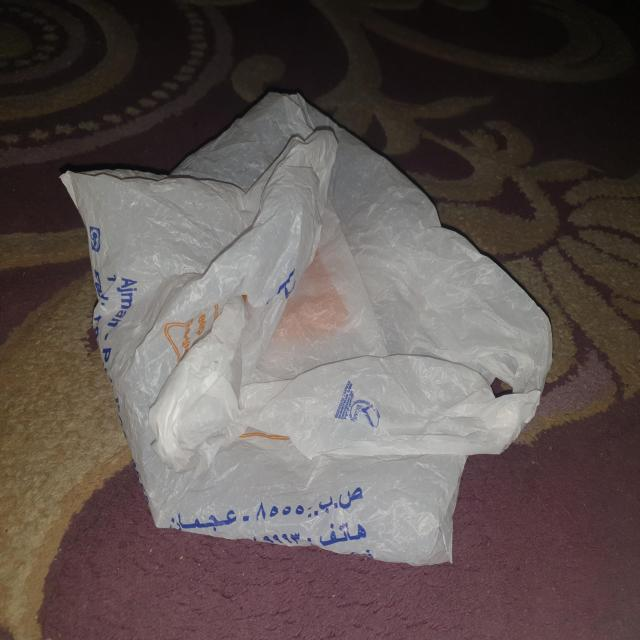plastic bag: (55, 88, 556, 567)
